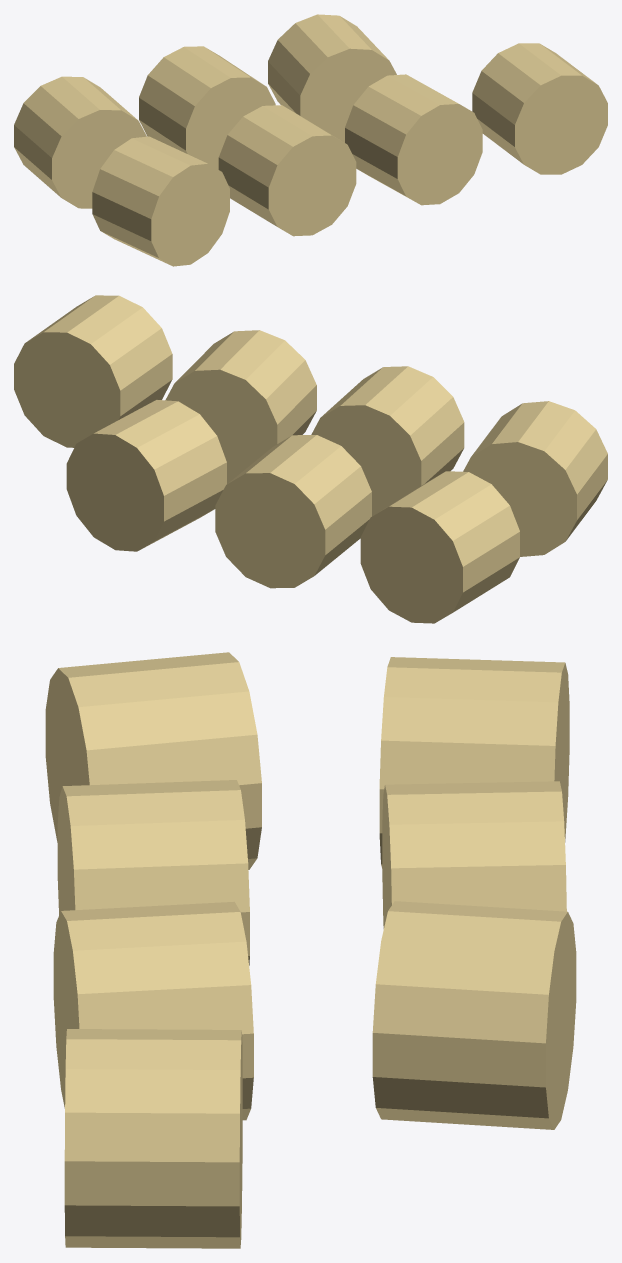
File: HayBales.glb
The picture shows the model from 3 angles, top to bottom: view 1: azimuth 30°, elevation 25°; view 2: azimuth 150°, elevation 25°; view 3: azimuth 270°, elevation 25°; orthographic projection. The views are drawn at different scales.
Visible parts, largest first — view 1: Round bale, Round bale.003, Round bale.002, Round bale.001, Round bale.004, Round bale.005, Round bale.006; view 2: Round bale.006, Round bale.004, Round bale.005, Round bale.003, Round bale, Round bale.001, Round bale.002; view 3: Round bale.006, Round bale.003, Round bale, Round bale.002, Round bale.004, Round bale.001, Round bale.005.
Boxes of the visible parts, x1,y1,x2,y2 form: Round bale: [92, 136, 229, 266]; Round bale.003: [472, 43, 607, 174]; Round bale.002: [345, 74, 482, 205]; Round bale.001: [218, 105, 356, 236]; Round bale.004: [14, 76, 146, 208]; Round bale.005: [139, 46, 275, 169]; Round bale.006: [268, 14, 396, 142]; Round bale.006: [66, 400, 226, 551]; Round bale.004: [360, 471, 519, 623]; Round bale.005: [215, 435, 371, 588]; Round bale.003: [14, 295, 172, 447]; Round bale: [463, 401, 607, 556]; Round bale.001: [311, 366, 464, 516]; Round bale.002: [165, 330, 316, 483]; Round bale.006: [372, 901, 576, 1129]; Round bale.003: [64, 1029, 242, 1248]; Round bale: [45, 652, 261, 869]; Round bale.002: [53, 901, 253, 1120]; Round bale.004: [379, 657, 569, 868]; Round bale.001: [57, 780, 249, 965]; Round bale.005: [382, 781, 566, 928].
Size of the model in its own units: 7.58 by 1.5 by 3.64.
